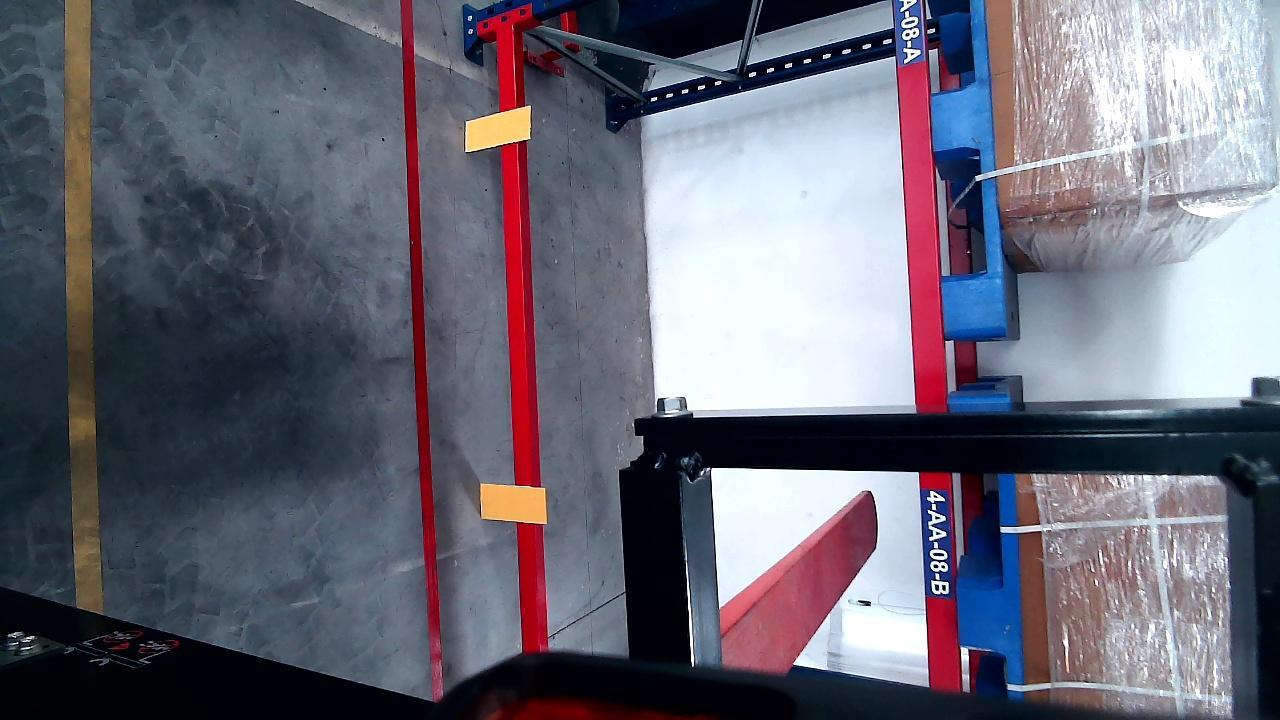red_line: (397, 1, 443, 701)
